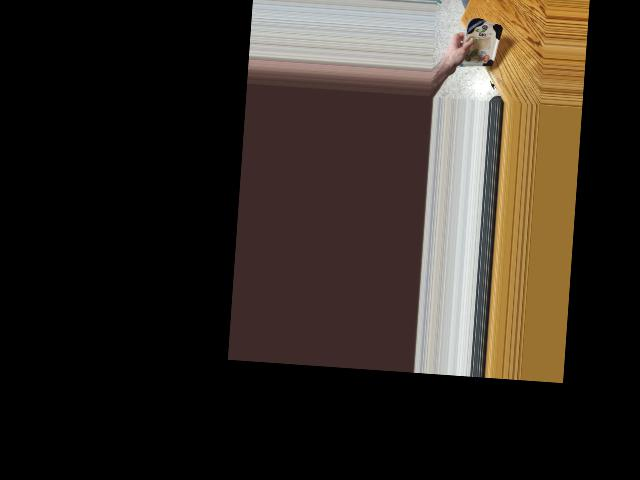cheese: (455, 15, 503, 70)
